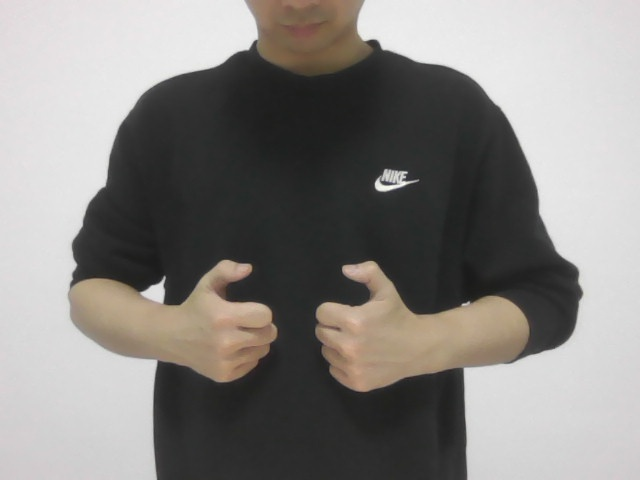marry/wife: (176, 242, 426, 401)
